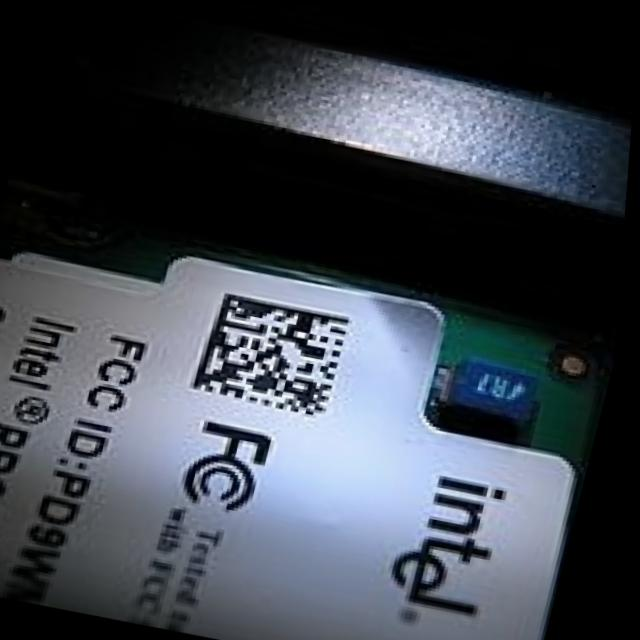datamatrix: (184, 283, 368, 421)
